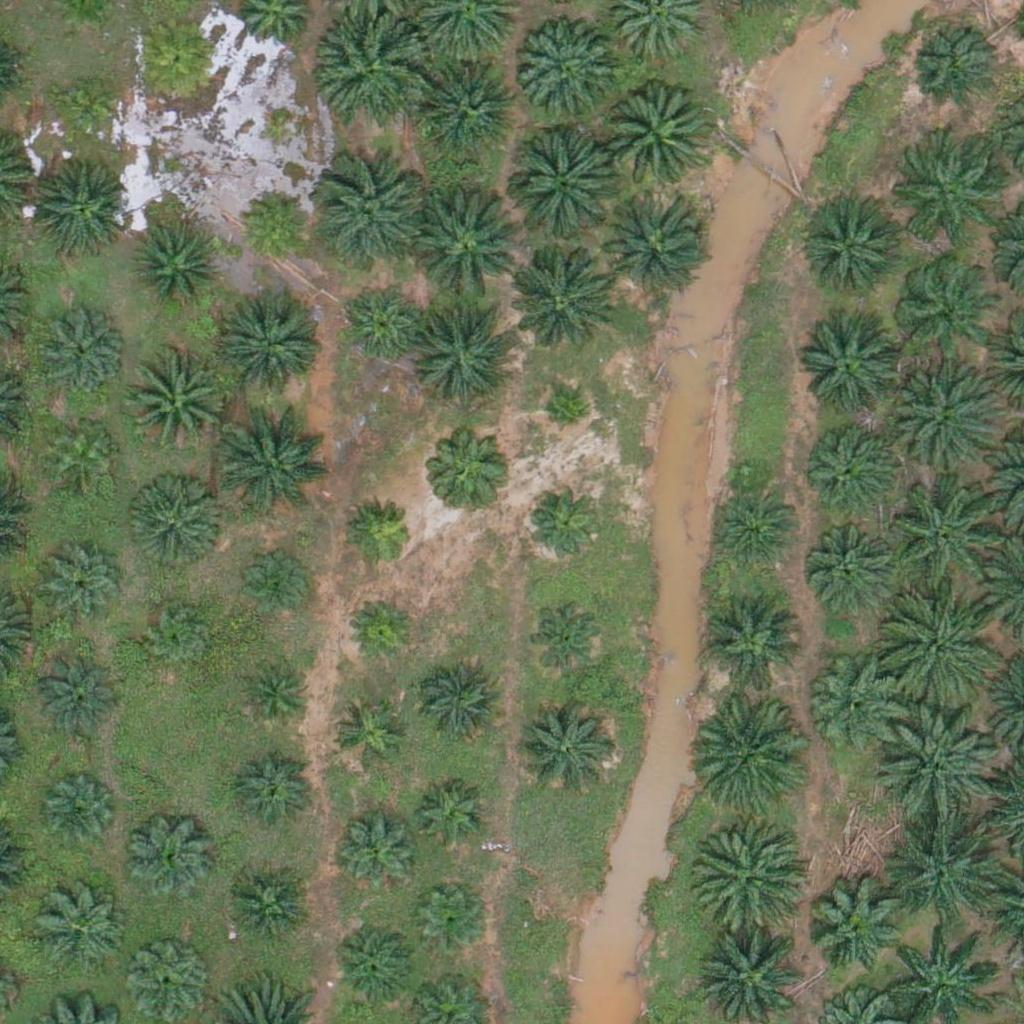Kelapa_Sawit: (694, 694, 807, 808), (878, 711, 991, 824), (690, 818, 803, 931), (884, 363, 997, 476), (886, 592, 999, 705), (503, 128, 616, 241), (500, 245, 613, 358), (318, 9, 431, 122), (315, 157, 428, 270), (407, 187, 519, 301), (889, 809, 1001, 922), (220, 406, 332, 519), (891, 477, 1003, 590), (599, 80, 711, 193), (596, 188, 708, 301), (412, 297, 524, 410), (515, 700, 615, 801), (26, 159, 126, 260), (125, 352, 225, 453), (222, 291, 322, 392), (888, 145, 988, 246), (894, 257, 994, 358), (800, 411, 900, 512), (800, 319, 900, 420), (806, 193, 906, 294), (702, 591, 802, 692), (515, 19, 615, 120), (804, 877, 904, 977), (126, 471, 226, 571), (807, 654, 907, 754), (803, 513, 903, 613), (422, 57, 522, 157), (332, 806, 420, 895), (133, 13, 221, 102), (524, 594, 612, 683), (230, 750, 318, 838), (218, 866, 306, 954), (339, 283, 427, 371), (33, 655, 121, 743), (40, 537, 128, 625), (910, 21, 998, 109), (424, 420, 512, 508), (418, 659, 506, 747), (331, 921, 418, 1009), (126, 813, 213, 901), (37, 886, 124, 974), (38, 304, 125, 392), (132, 224, 219, 312), (522, 476, 609, 564), (709, 479, 796, 567), (236, 185, 311, 261), (41, 776, 116, 852), (239, 547, 314, 623), (414, 886, 489, 962), (237, 659, 312, 735), (48, 70, 123, 146), (344, 497, 419, 572), (45, 418, 120, 493), (329, 697, 404, 772), (143, 602, 218, 677), (417, 781, 492, 856), (344, 593, 419, 668), (541, 391, 591, 441)
